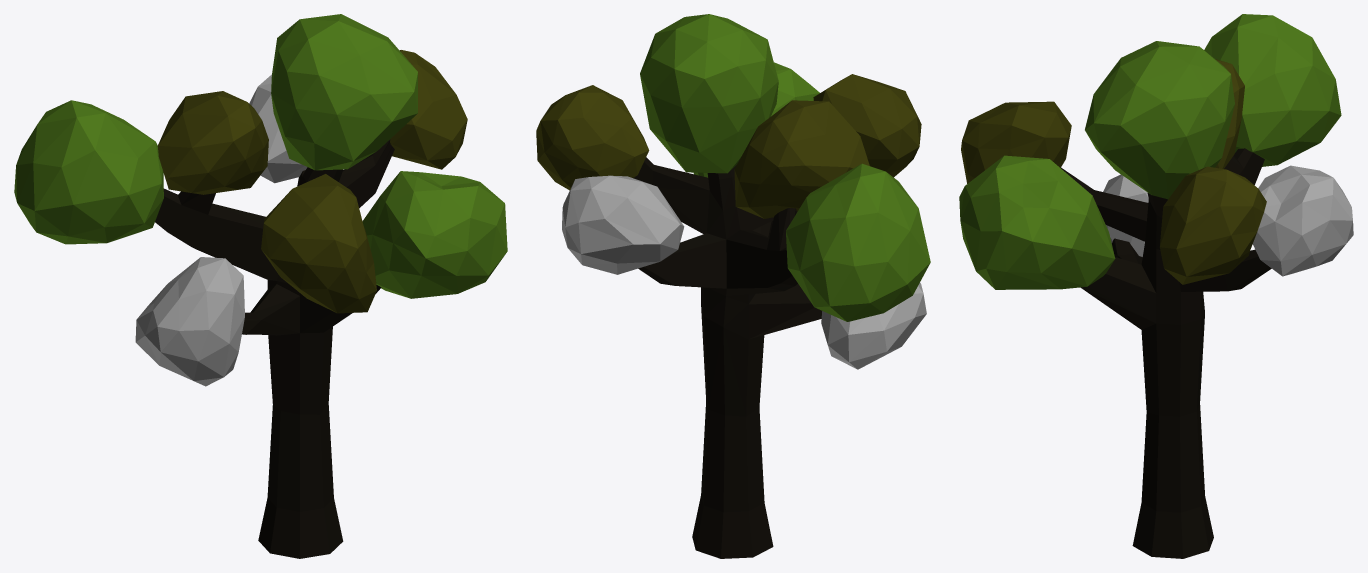
The model's file is avorebugadaemfbx.FBX.
3 renders of one model, left to right at view 1: azimuth 30°, elevation 25°; view 2: azimuth 150°, elevation 25°; view 3: azimuth 270°, elevation 25°, orthographic.
Parts seen in each view (by area): view 1: Cylinder_002; view 2: Cylinder_002; view 3: Cylinder_002.
Part boxes in pixels (<box>): Cylinder_002: <box>14,14,507,558</box>; Cylinder_002: <box>536,14,930,558</box>; Cylinder_002: <box>959,14,1353,558</box>.
Bounding box in the file's own units: 3.18 × 3.92 × 2.75.
